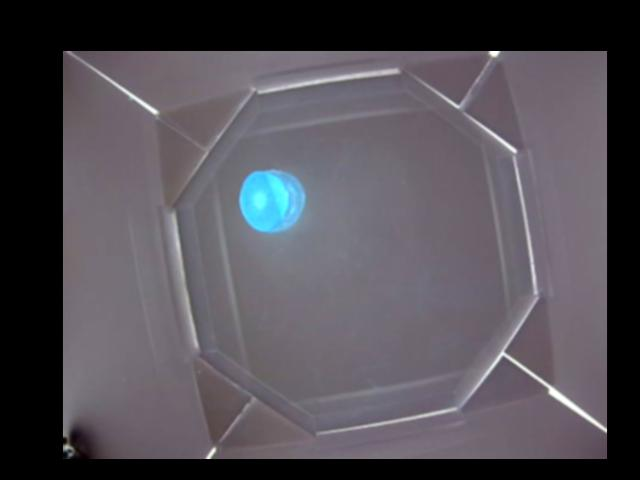Carrot: (239, 169, 305, 232)
